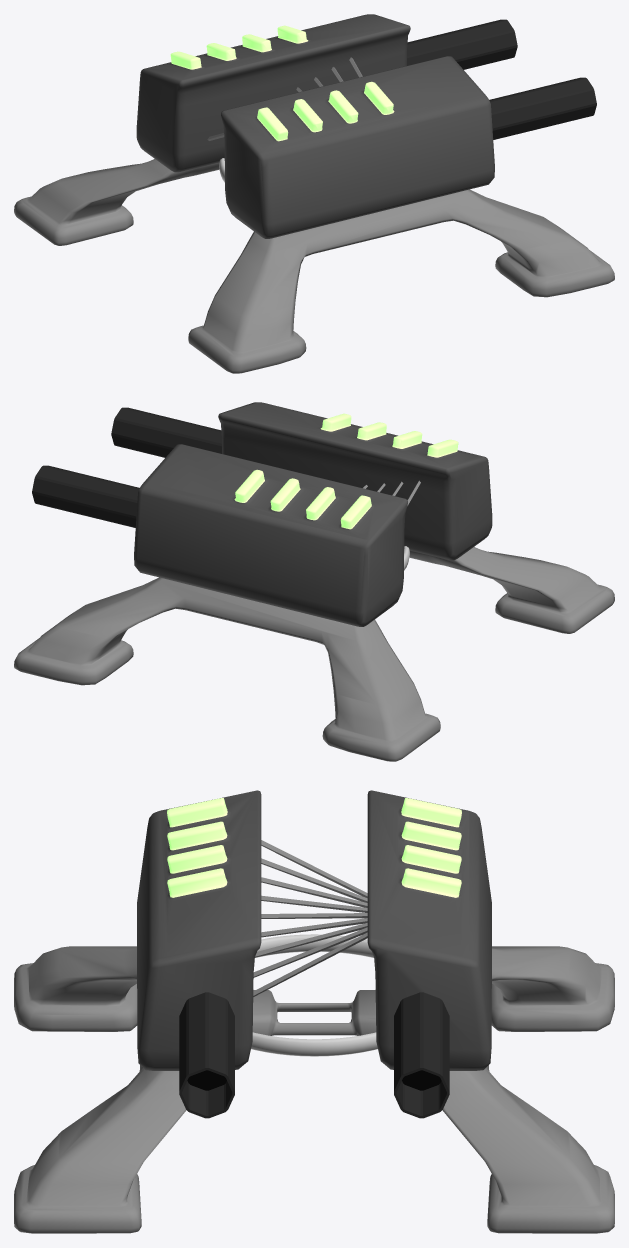
The picture shows the model from 3 angles, top to bottom: view 1: azimuth 30°, elevation 25°; view 2: azimuth 150°, elevation 25°; view 3: azimuth 270°, elevation 25°; orthographic projection. The views are drawn at different scales.
Parts seen in each view (by area): view 1: WeaponBody, PylonGrip, RightBarrel, LeftBarrel; view 2: WeaponBody, PylonGrip, LeftBarrel, RightBarrel; view 3: PylonGrip, WeaponBody, LeftBarrel, RightBarrel, Plane.001, RotationRails.
Boxes of the visible parts, left/top/right/bottom form: WeaponBody: left=136, top=14, right=494, bottom=238; PylonGrip: left=14, top=159, right=614, bottom=373; RightBarrel: left=489, top=77, right=596, bottom=139; LeftBarrel: left=407, top=19, right=517, bottom=69; WeaponBody: left=134, top=402, right=492, bottom=626; PylonGrip: left=14, top=547, right=614, bottom=761; LeftBarrel: left=32, top=465, right=139, bottom=527; RightBarrel: left=111, top=407, right=221, bottom=457; PylonGrip: left=14, top=946, right=614, bottom=1233; WeaponBody: left=137, top=790, right=491, bottom=1070; LeftBarrel: left=394, top=992, right=449, bottom=1118; RightBarrel: left=179, top=992, right=234, bottom=1118; Plane.001: left=253, top=840, right=367, bottom=996; RotationRails: left=251, top=934, right=377, bottom=1056.
Size of the model in its own units: 366 by 153 by 331.
